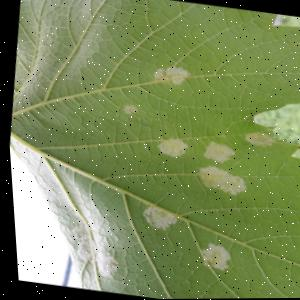Folha: (0, 0, 300, 300)
Fungo: (191, 163, 245, 197), (135, 205, 177, 233), (194, 241, 229, 272), (149, 62, 192, 87), (152, 135, 187, 160), (198, 140, 233, 164), (240, 129, 275, 149), (120, 104, 138, 116)
